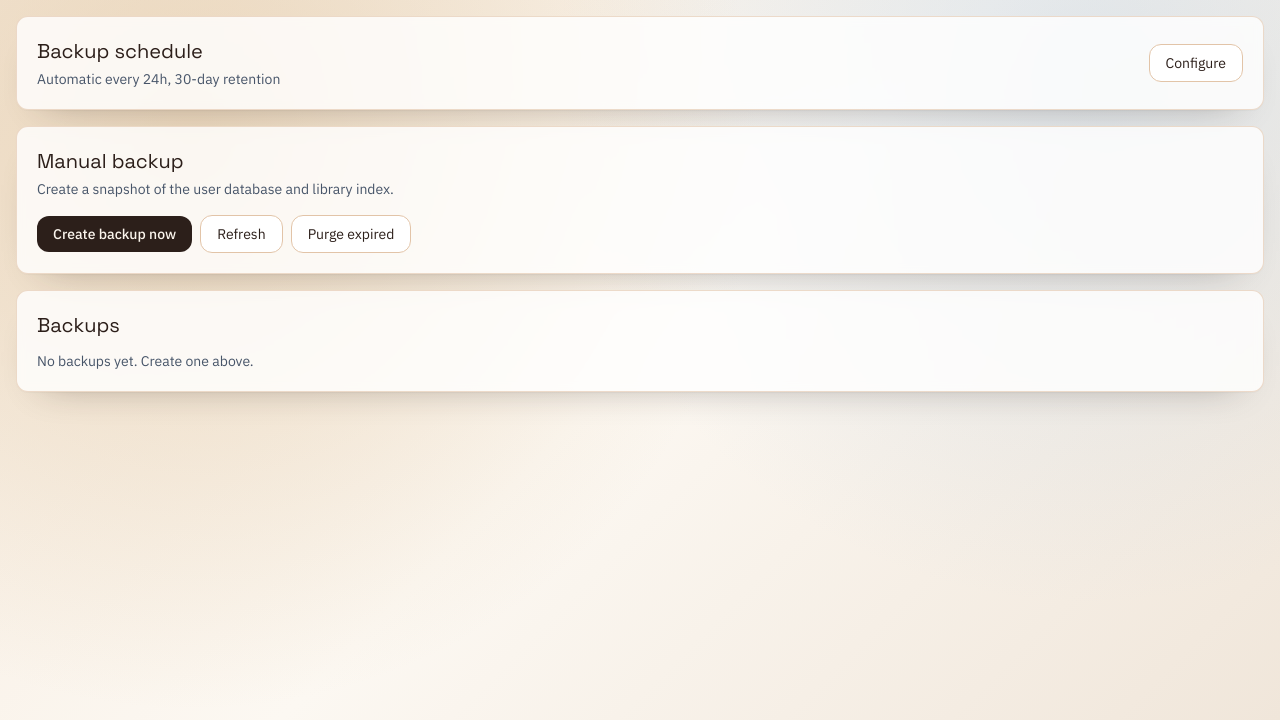
Test: AdminBackupView › opens and cancels schedule editor
Click the button "Configure": point(1196, 63) top-left (1148, 44), bottom-right (1243, 82)
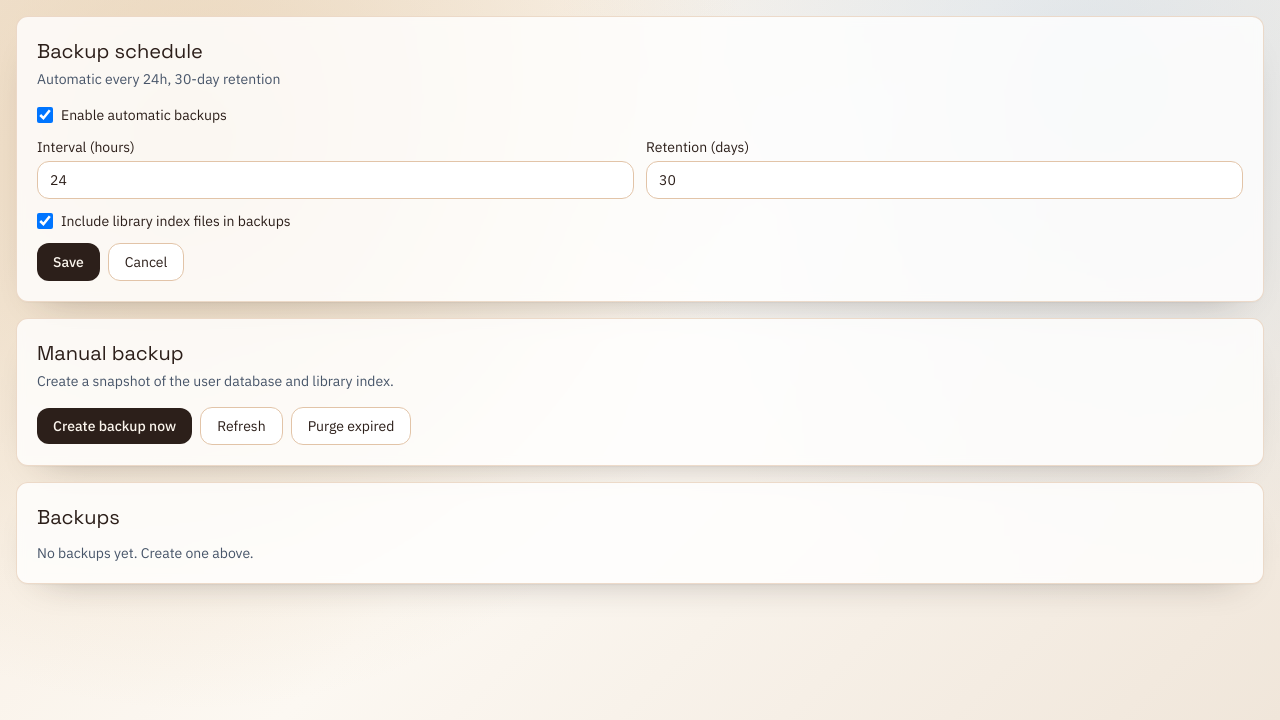
Check: the text "Enable automatic backups" is shown, box top-left (37, 106), bottom-right (227, 124)
Check: the button "Save" is shown, box top-left (37, 243), bottom-right (100, 281)
Click the button "Cancel": point(146, 262) top-left (108, 243), bottom-right (184, 281)
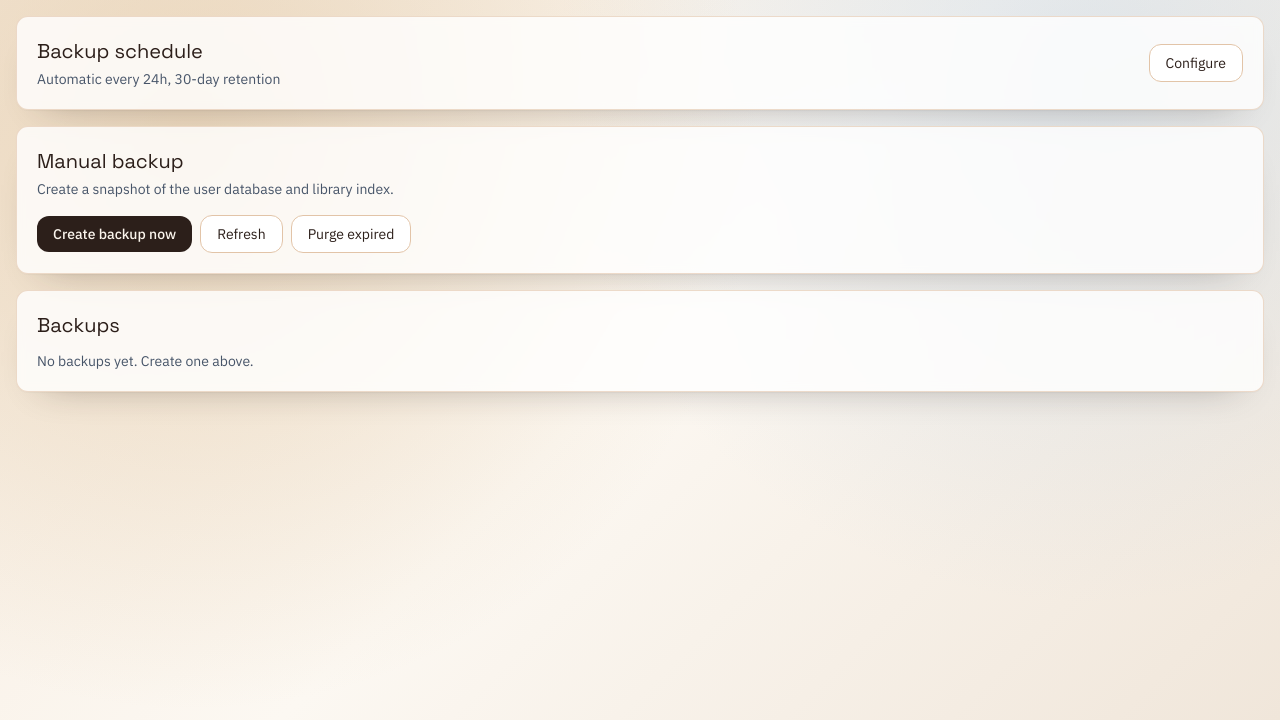
Check: the text "Enable automatic backups" is gone
